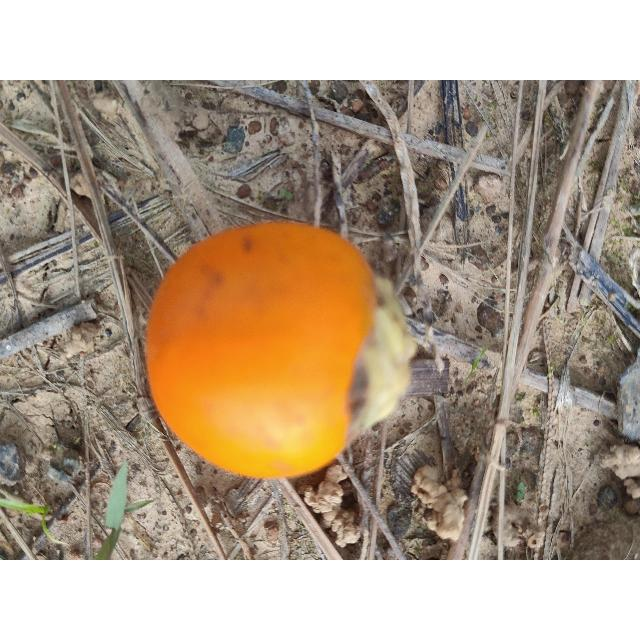good: (147, 222, 417, 478)
